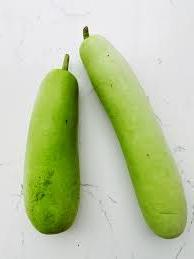bottle gourd: (78, 25, 187, 239), (21, 52, 80, 234)
